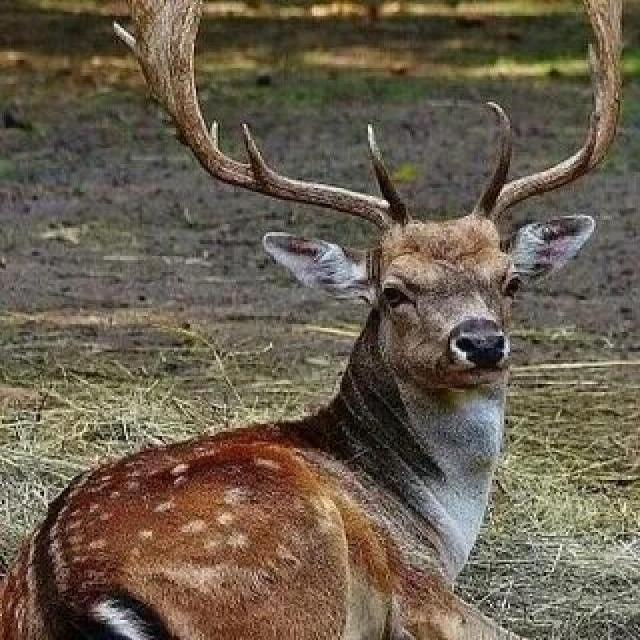deer: (0, 17, 619, 640)
